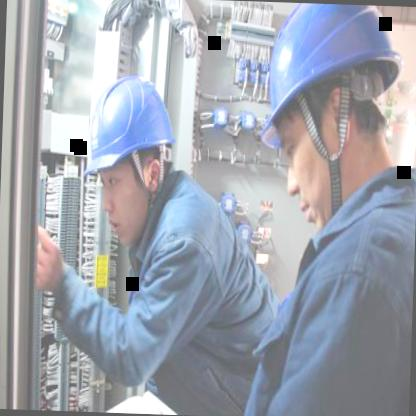helmet: (244, 1, 413, 212), (76, 50, 184, 254)
